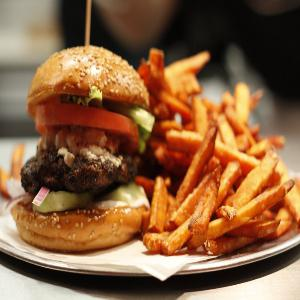cheeseburger_475cal: (23, 40, 147, 261)
fries_350cal: (151, 43, 300, 257)
